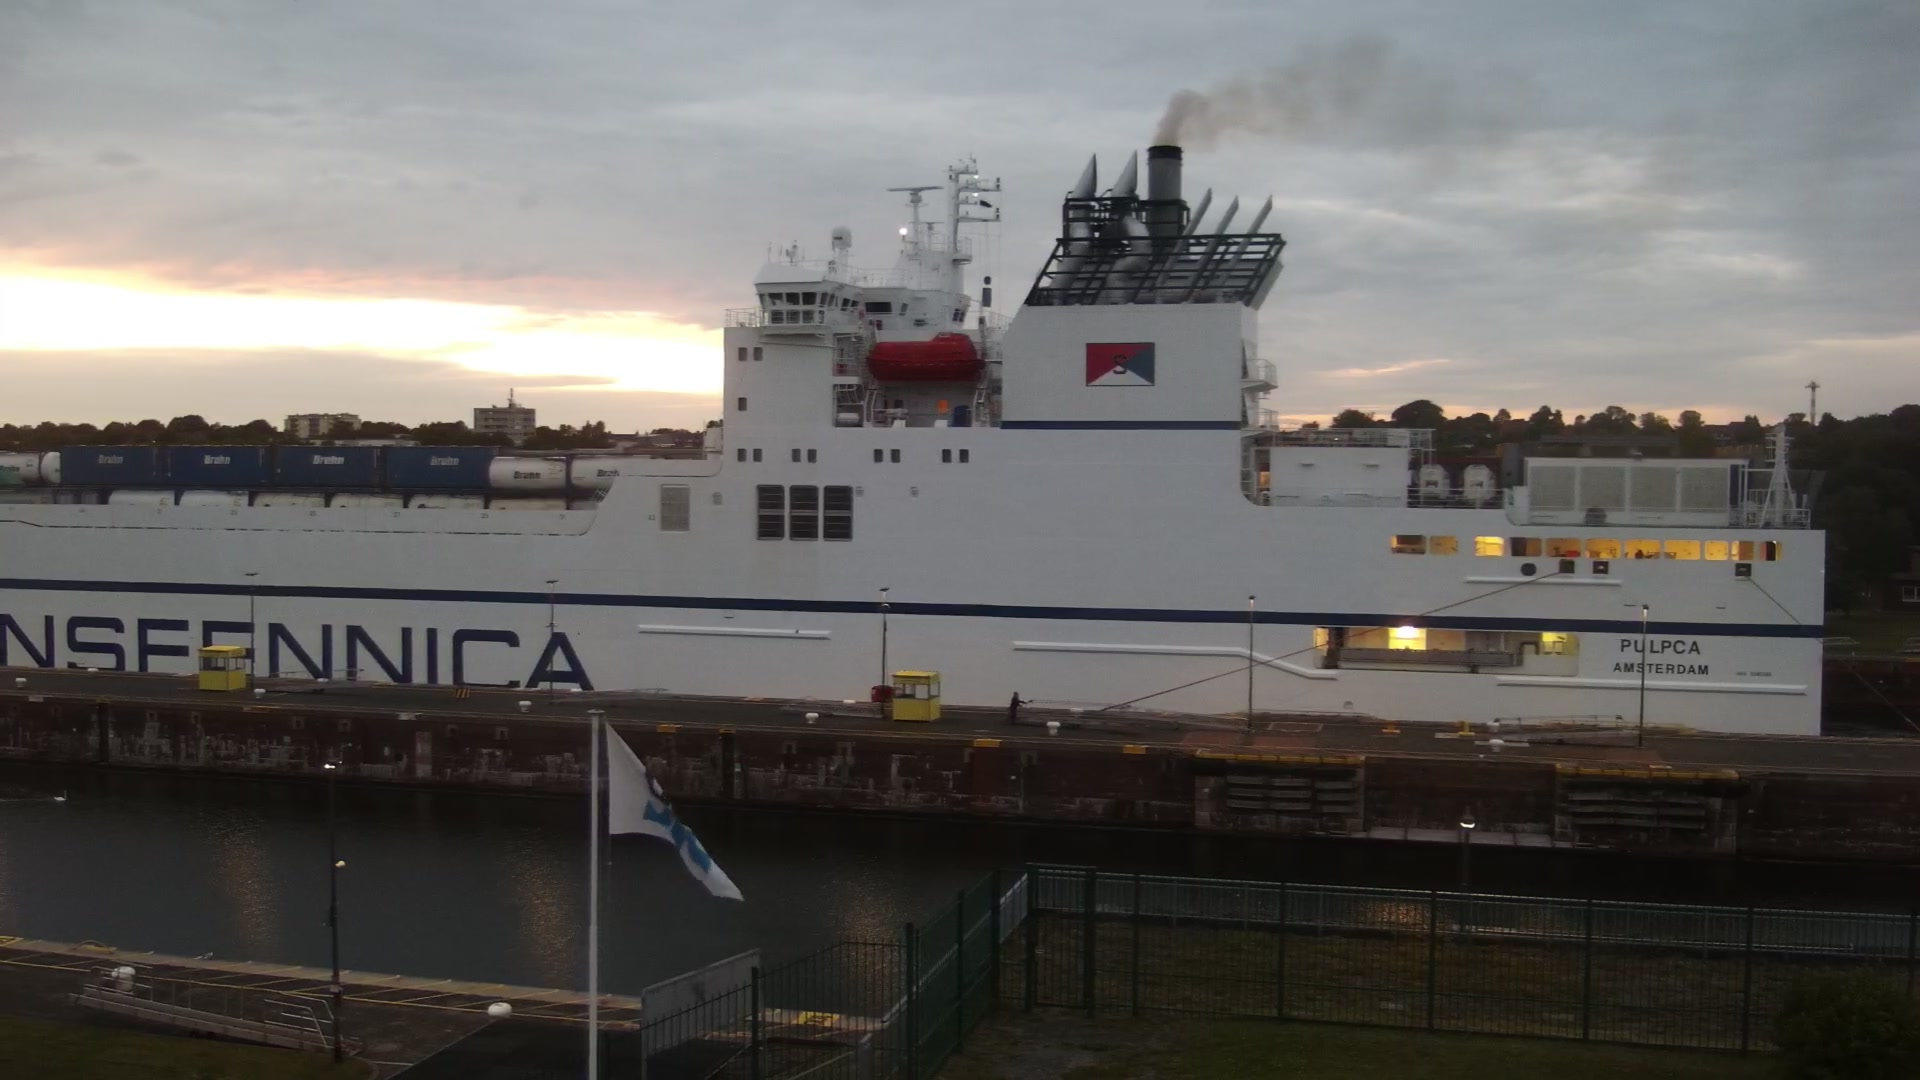human: (1005, 689, 1026, 724)
sea: (1, 142, 1825, 736)
